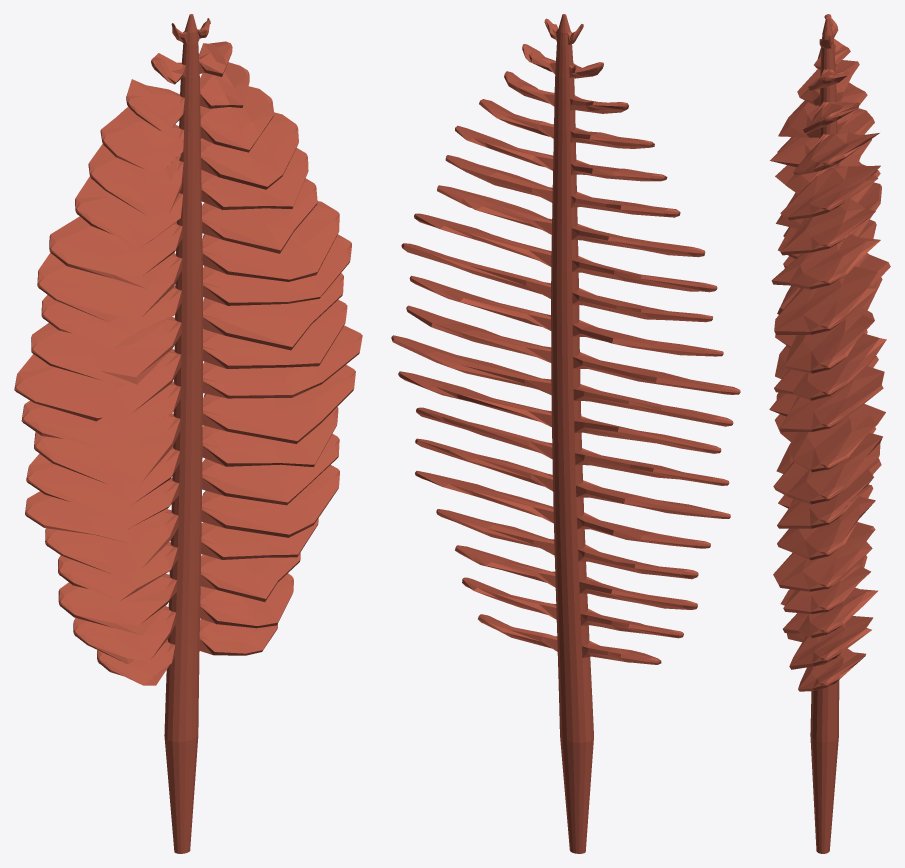
3 renders of one model, left to right at view 1: azimuth 30°, elevation 25°; view 2: azimuth 150°, elevation 25°; view 3: azimuth 270°, elevation 25°, orthographic.
Visible parts, largest first — view 1: NEW655_LOD1_Colony; view 2: NEW655_LOD1_Colony; view 3: NEW655_LOD1_Colony.
Part boxes in pixels (x1=…): NEW655_LOD1_Colony: x1=14, y1=14, x2=362, y2=853; NEW655_LOD1_Colony: x1=391, y1=14, x2=740, y2=853; NEW655_LOD1_Colony: x1=769, y1=14, x2=890, y2=853.
Bounding box in the file's own units: 0.1428 × 0.326 × 0.043.
